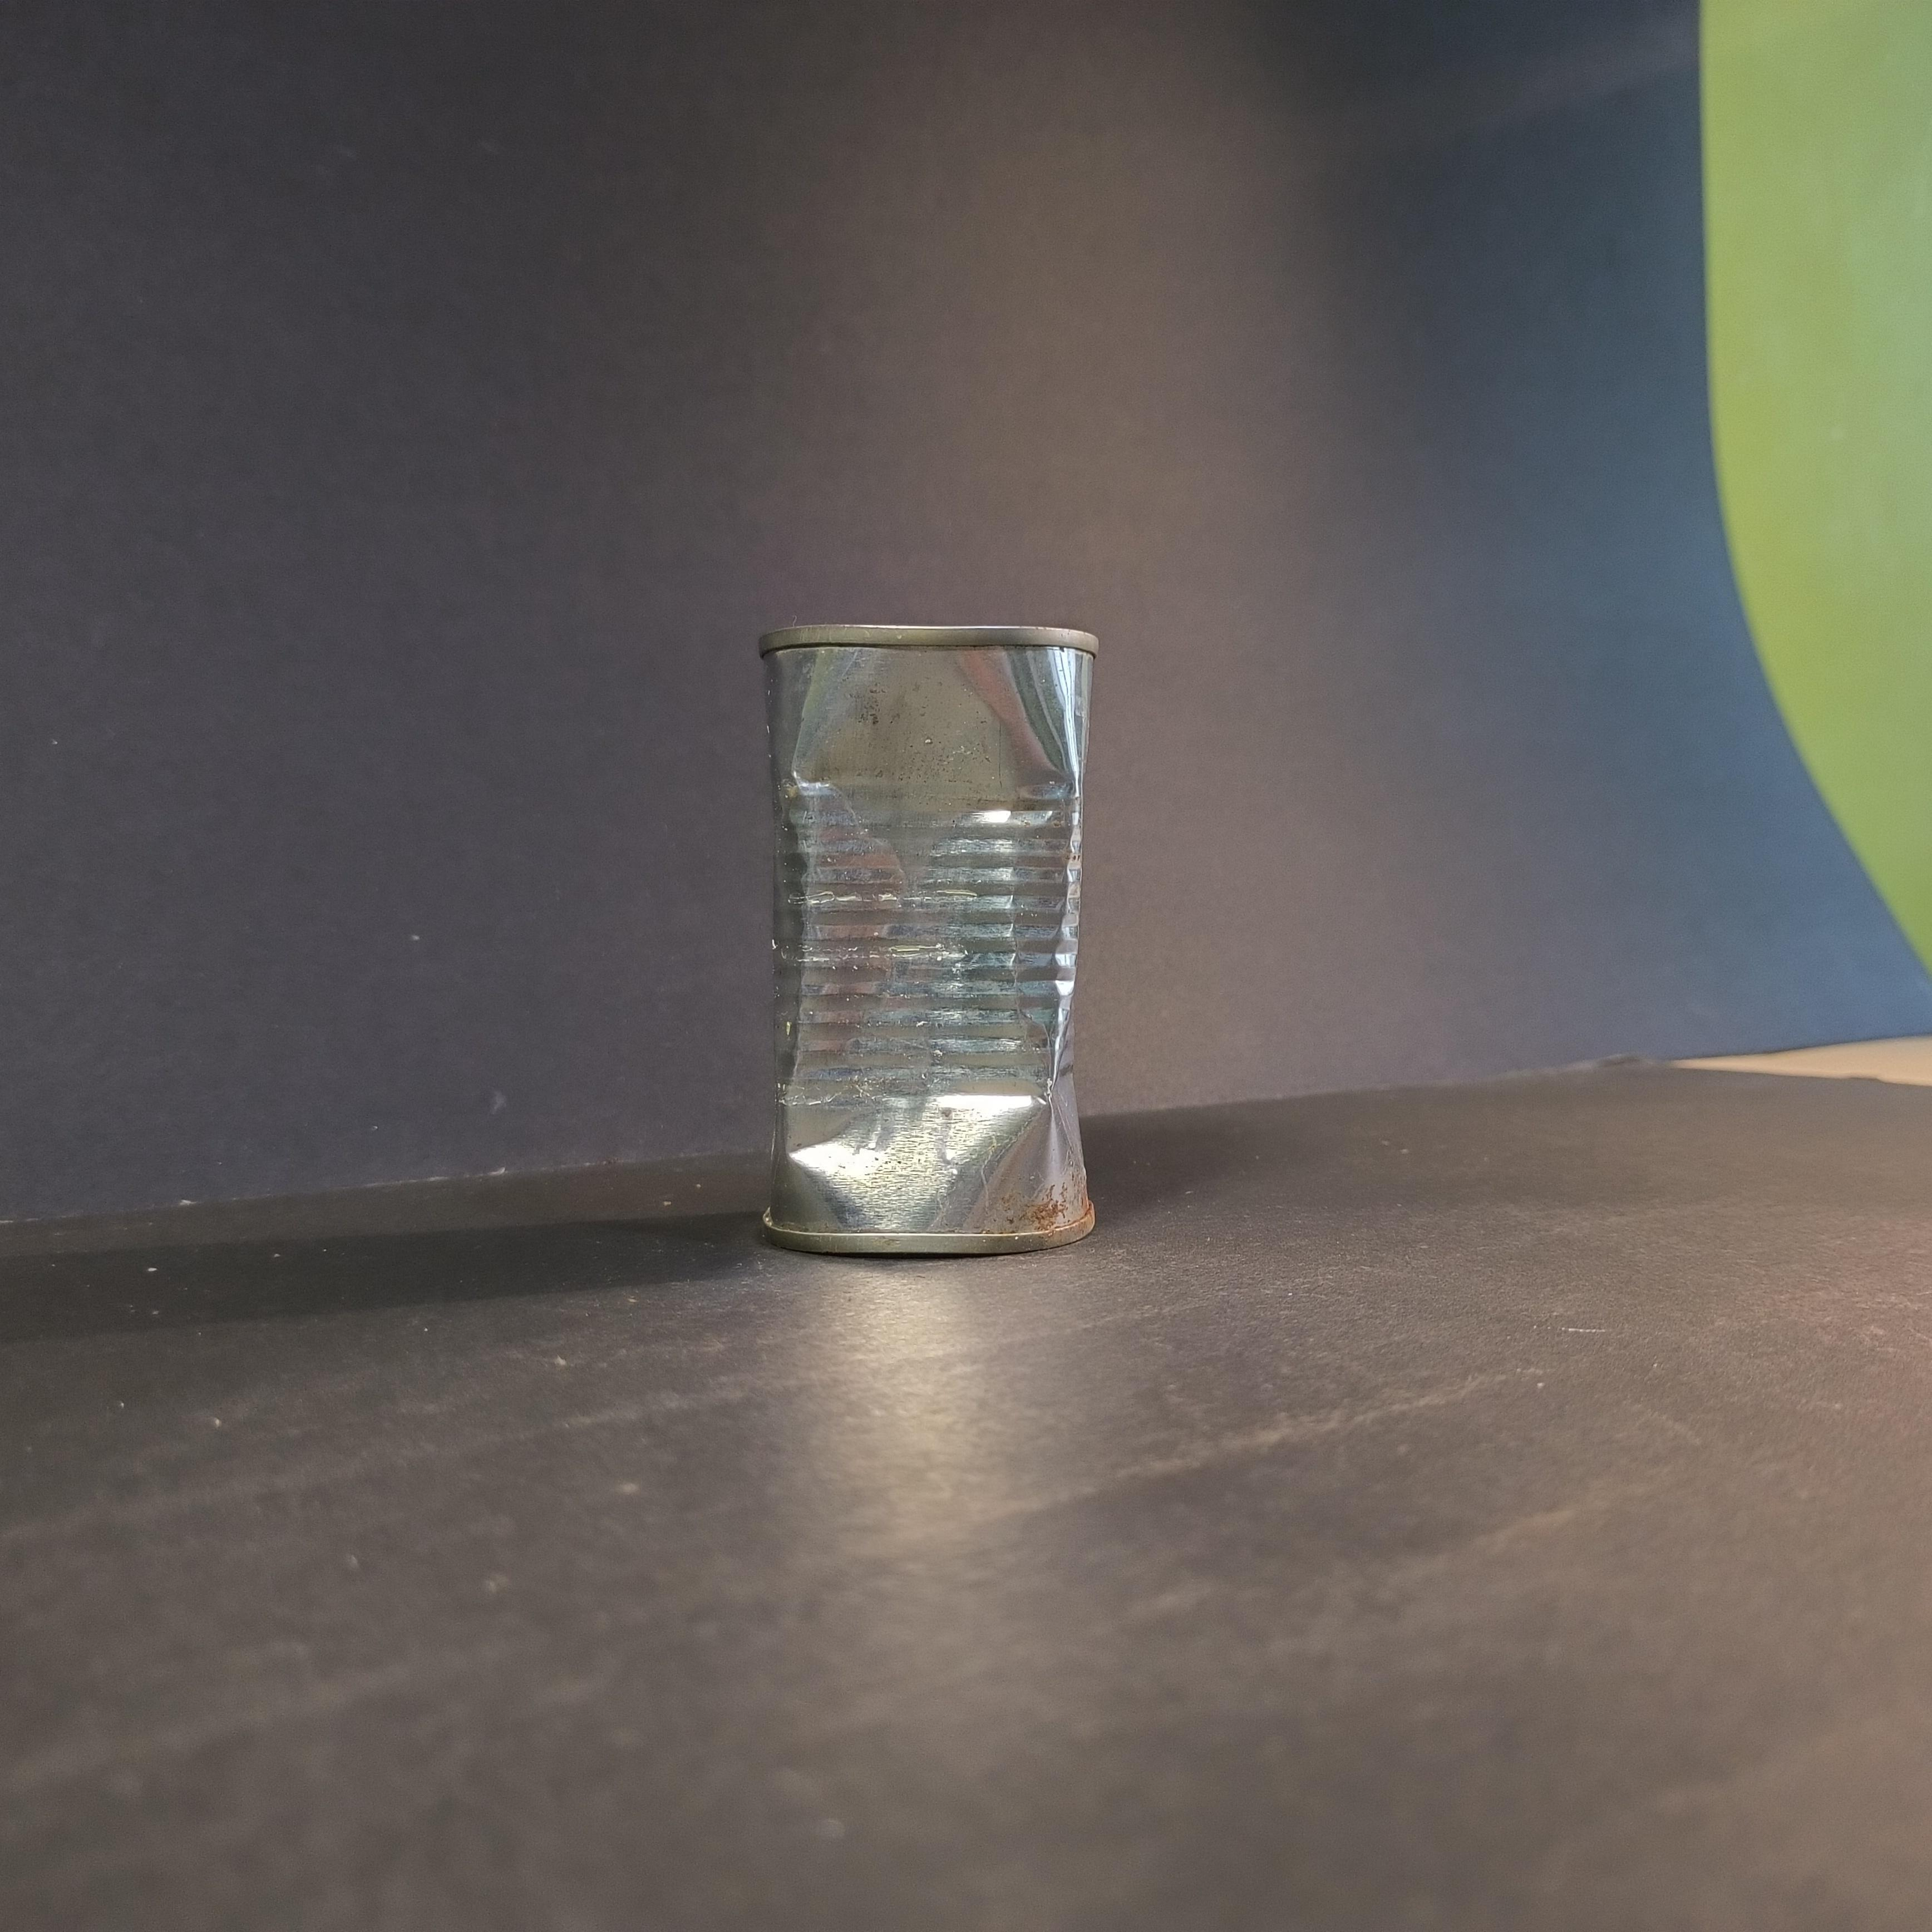Dented: (754, 596, 1116, 1269)
